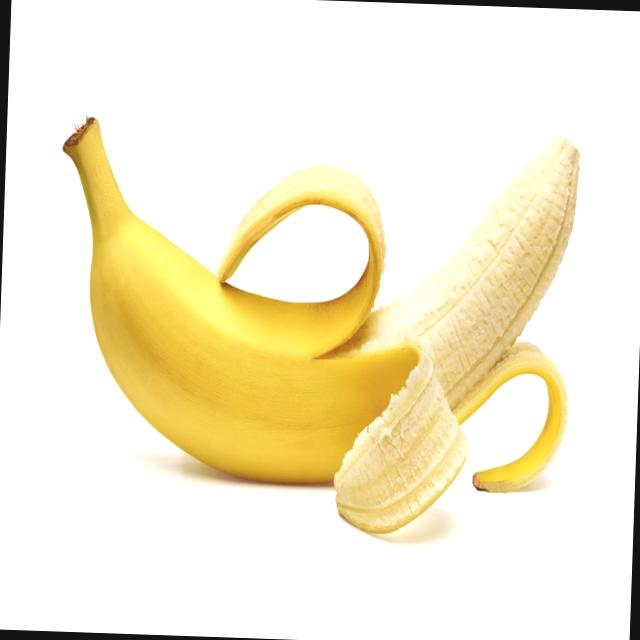banana: (78, 149, 595, 512)
